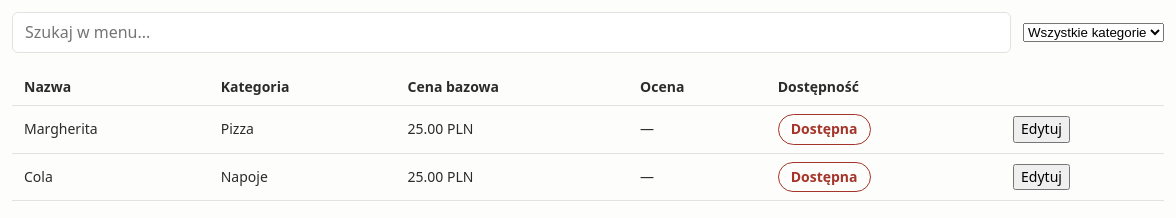
Test: MenuItemList › filters by category
Select "Napoje" in the dropdown named "Filtruj po kategorii": [1094, 33] box [1023, 23, 1164, 42]
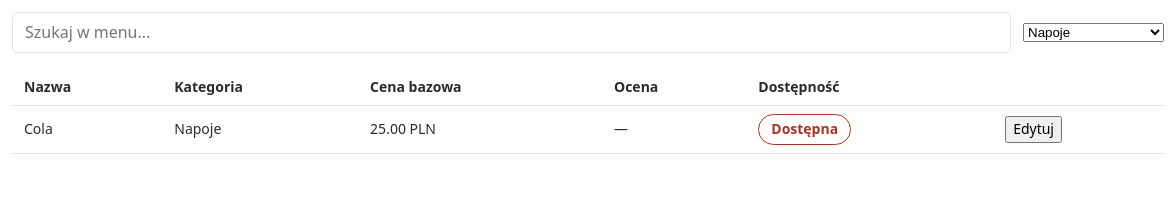
Check: the text "Cola" is shown, box [12, 106, 162, 153]
Check: the text "Margherita" is gone
